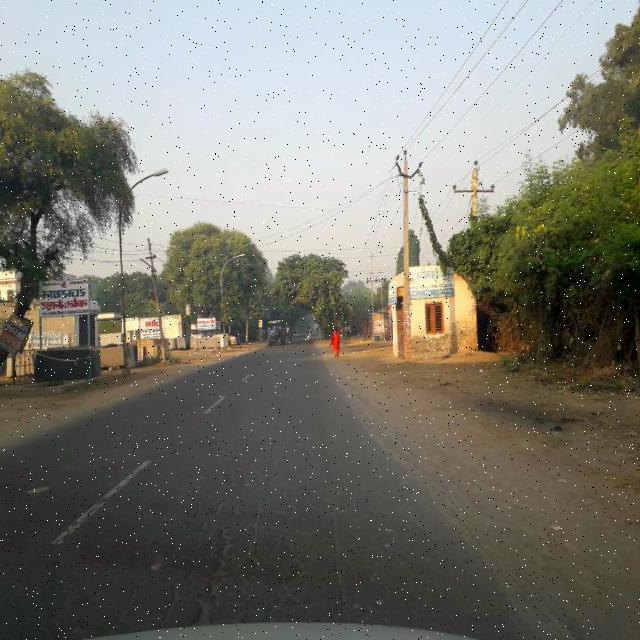D20: (102, 490, 364, 630)
